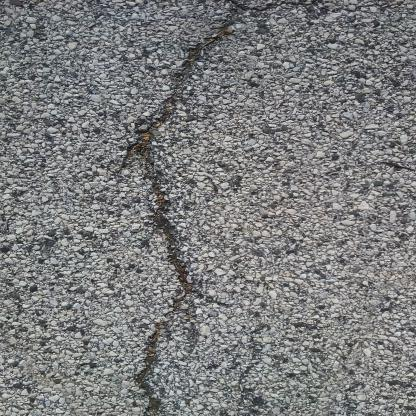Cracks: (107, 1, 268, 416)
